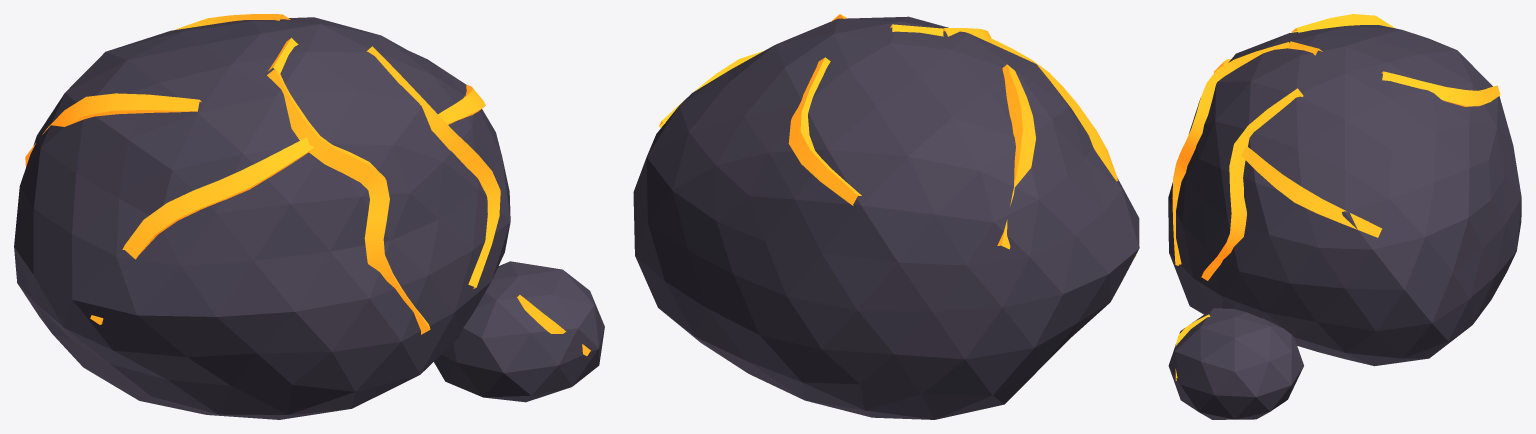
Rendered from lava_rock.glb.
The picture shows the model from 3 angles, left to right: view 1: azimuth 30°, elevation 25°; view 2: azimuth 150°, elevation 25°; view 3: azimuth 270°, elevation 25°; orthographic projection. The views are drawn at different scales.
Visible parts, largest first — view 1: lava_rock; view 2: lava_rock; view 3: lava_rock.
Boxes of the visible parts, box(x1,y1,x2,y2) form: lava_rock: box(14, 14, 604, 419); lava_rock: box(633, 14, 1139, 419); lava_rock: box(1168, 14, 1521, 419).
Size of the model in its own units: 2.75 by 1.87 by 2.08.
